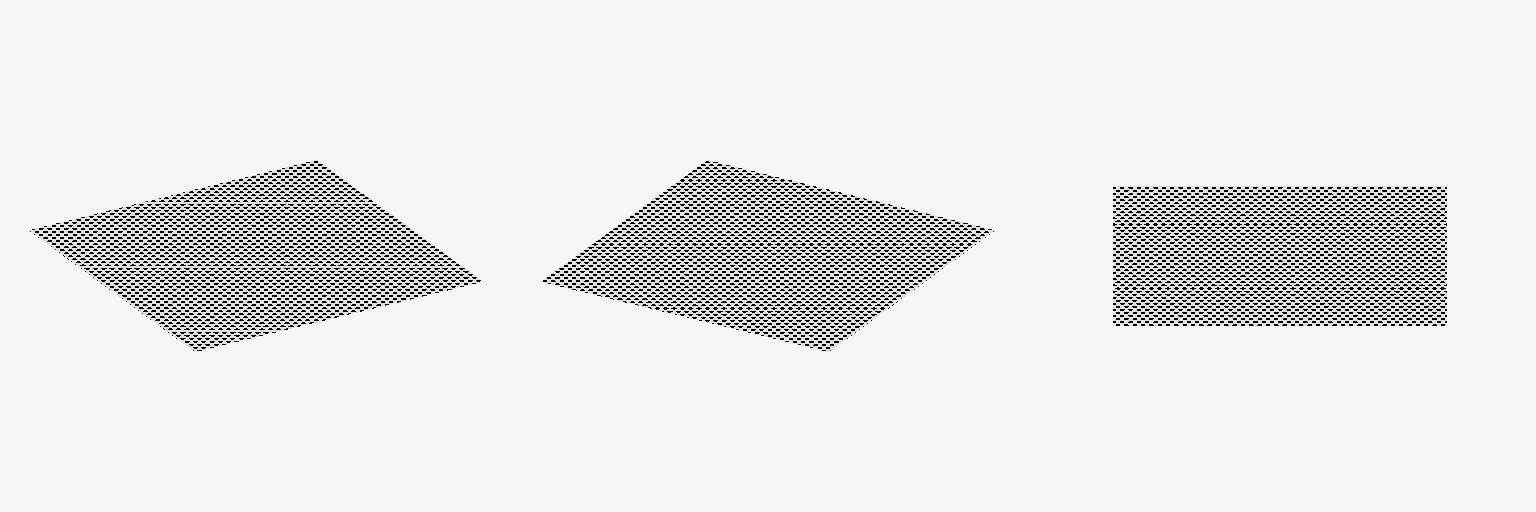
3 views of the same model, side by side, from view 1: azimuth 30°, elevation 25°; view 2: azimuth 150°, elevation 25°; view 3: azimuth 270°, elevation 25° (orthographic).
Visible parts, largest first — view 1: Floor; view 2: Floor; view 3: Floor.
Boxes of the visible parts, box(x1,y1,x2,y2) form: Floor: box(29, 160, 482, 351); Floor: box(541, 160, 994, 351); Floor: box(1113, 186, 1446, 325).
Bounding box in the file's own units: 80 × 0 × 80.
1 materials, 1 textured.